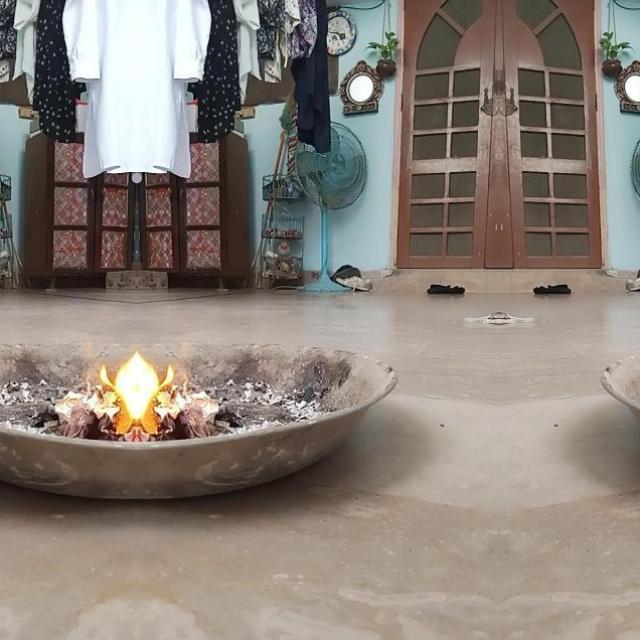smoke: (138, 344, 200, 449), (74, 344, 135, 449)
